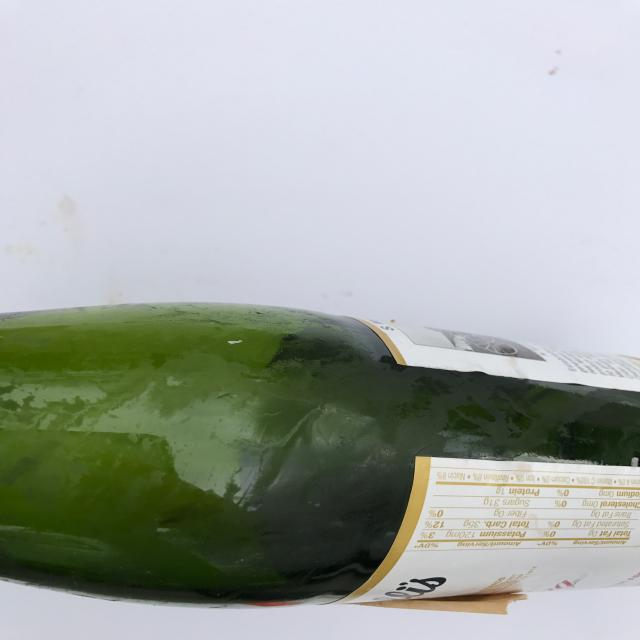Glass: (0, 292, 640, 618)
